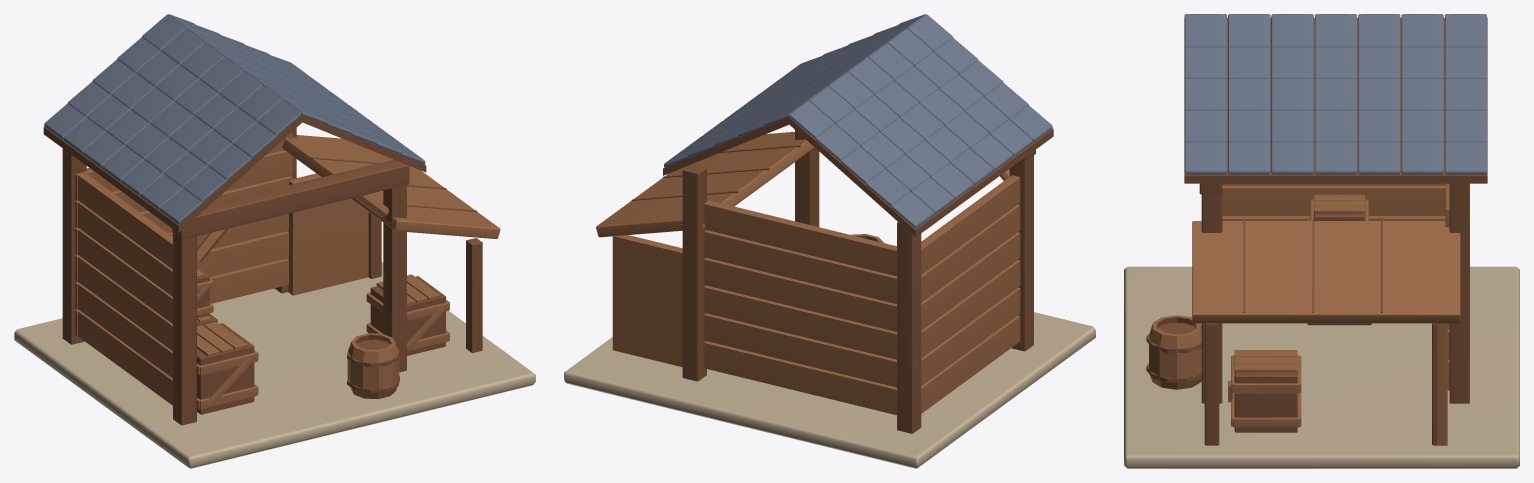
File: warehouse.glb
3 renders of one model, left to right at view 1: azimuth 30°, elevation 25°; view 2: azimuth 150°, elevation 25°; view 3: azimuth 270°, elevation 25°, orthographic. The views are drawn at different scales.
Visible parts, largest first — view 1: warehouse; view 2: warehouse; view 3: warehouse.
Part boxes in pixels (x1=…): warehouse: x1=14, y1=14, x2=535, y2=468; warehouse: x1=564, y1=14, x2=1095, y2=468; warehouse: x1=1124, y1=14, x2=1519, y2=468.
Size of the model in its own units: 3.08 by 2.57 by 2.7.
